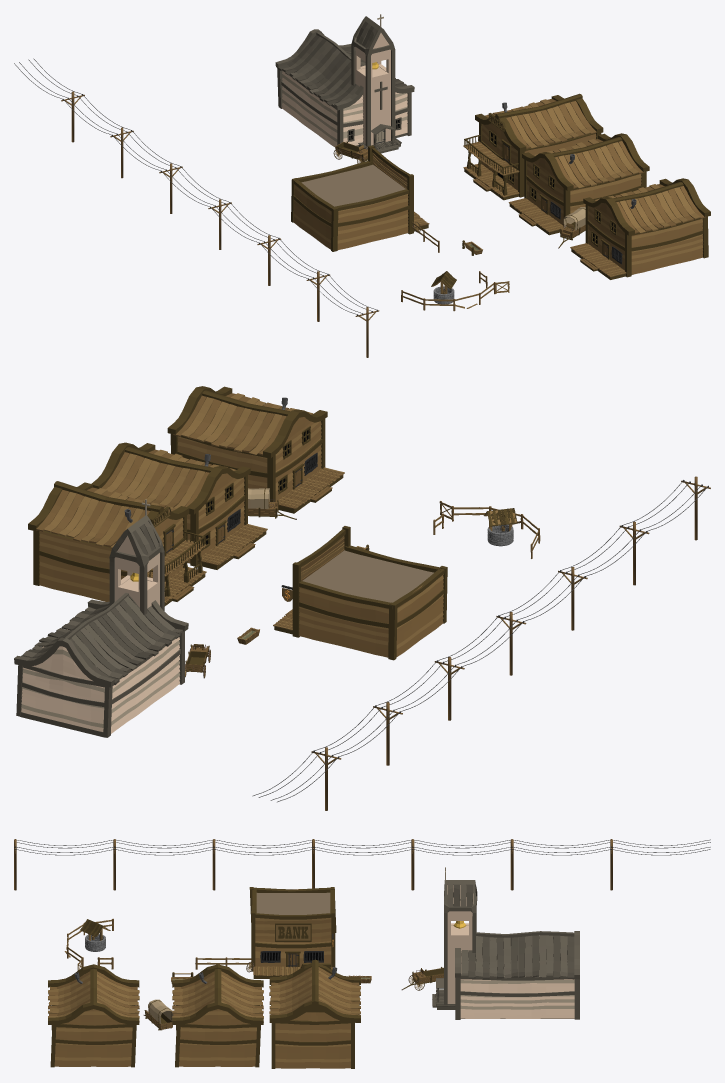
File: WesternAssets.fbx
3 views of the same model, one above another, from view 1: azimuth 30°, elevation 25°; view 2: azimuth 150°, elevation 25°; view 3: azimuth 270°, elevation 25° (orthographic). The views are drawn at different scales.
Parts seen in each view (by area): view 1: kilise, home2, bank, home1, hotel, elektrik teli, cit, at arabasi 2, Well; view 2: kilise, bank, home2, hotel, home1, elektrik teli, Well, at arabasi 2, cit; view 3: kilise, hotel, home2, home1, bank, elektrik teli, at arabasi 2, Well, cit, at arabasi.
Boxes of the visible parts, box(x1,y1,x2,y2) form: kilise: box(275, 14, 414, 153); home2: box(570, 178, 710, 279); bank: box(291, 145, 439, 252); home1: box(508, 133, 649, 235); hotel: box(463, 93, 603, 200); elektrik teli: box(14, 58, 379, 357); cit: box(401, 271, 509, 311); at arabasi 2: box(558, 207, 585, 248); Well: box(431, 271, 456, 304); kilise: box(14, 499, 188, 737); bank: box(273, 526, 447, 660); home2: box(167, 386, 344, 513); hotel: box(28, 481, 206, 606); home1: box(91, 442, 267, 569); elektrik teli: box(252, 476, 710, 810); Well: box(483, 508, 517, 546); at arabasi 2: box(248, 488, 296, 519); cit: box(433, 501, 540, 558); kilise: box(432, 867, 579, 1019); hotel: box(269, 959, 360, 1068); home2: box(48, 964, 139, 1067); home1: box(172, 964, 263, 1067); bank: box(195, 887, 336, 978); elektrik teli: box(14, 839, 710, 890); at arabasi 2: box(143, 999, 173, 1030); Well: box(80, 919, 110, 951); cit: box(64, 918, 113, 970); at arabasi: box(401, 967, 443, 990).
Bounding box in the file's own units: 4391 × 1501 × 7015.
